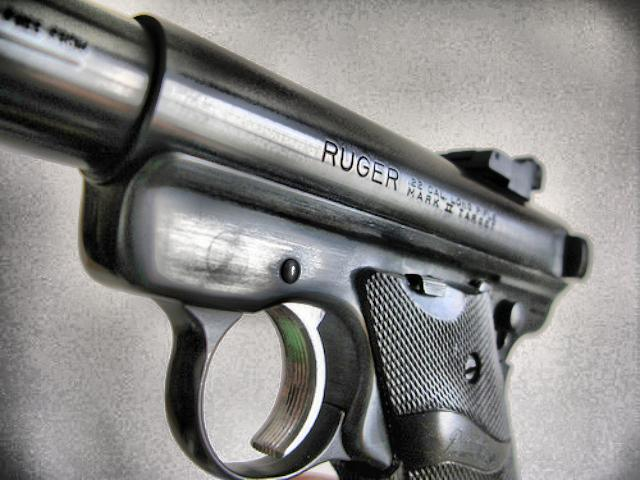pistol: (0, 0, 588, 478)
